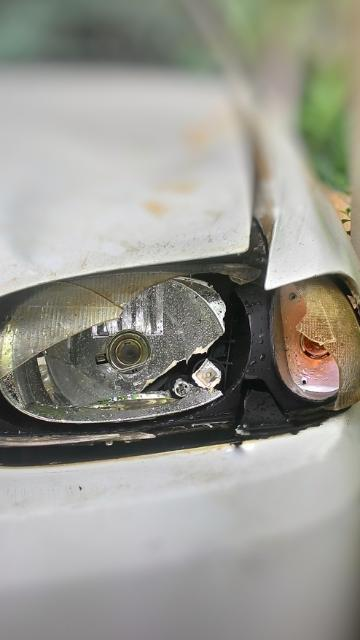Light: (7, 279, 360, 437)
